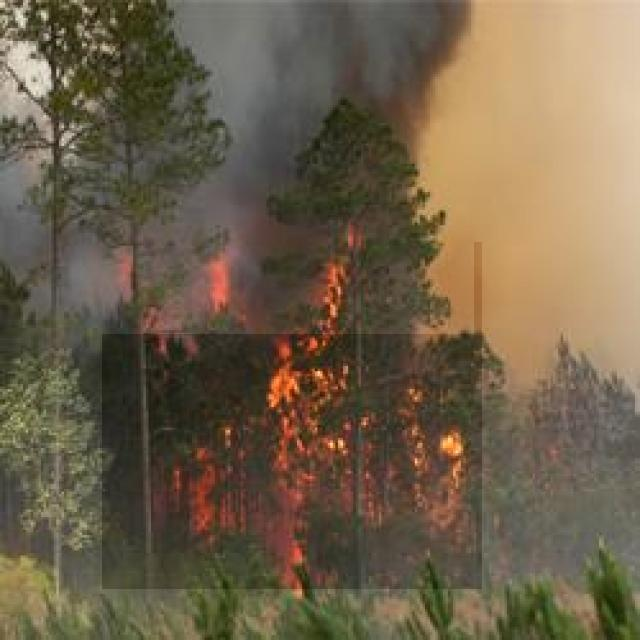Fire: (102, 242, 482, 589)
Smoke: (0, 0, 474, 334)
